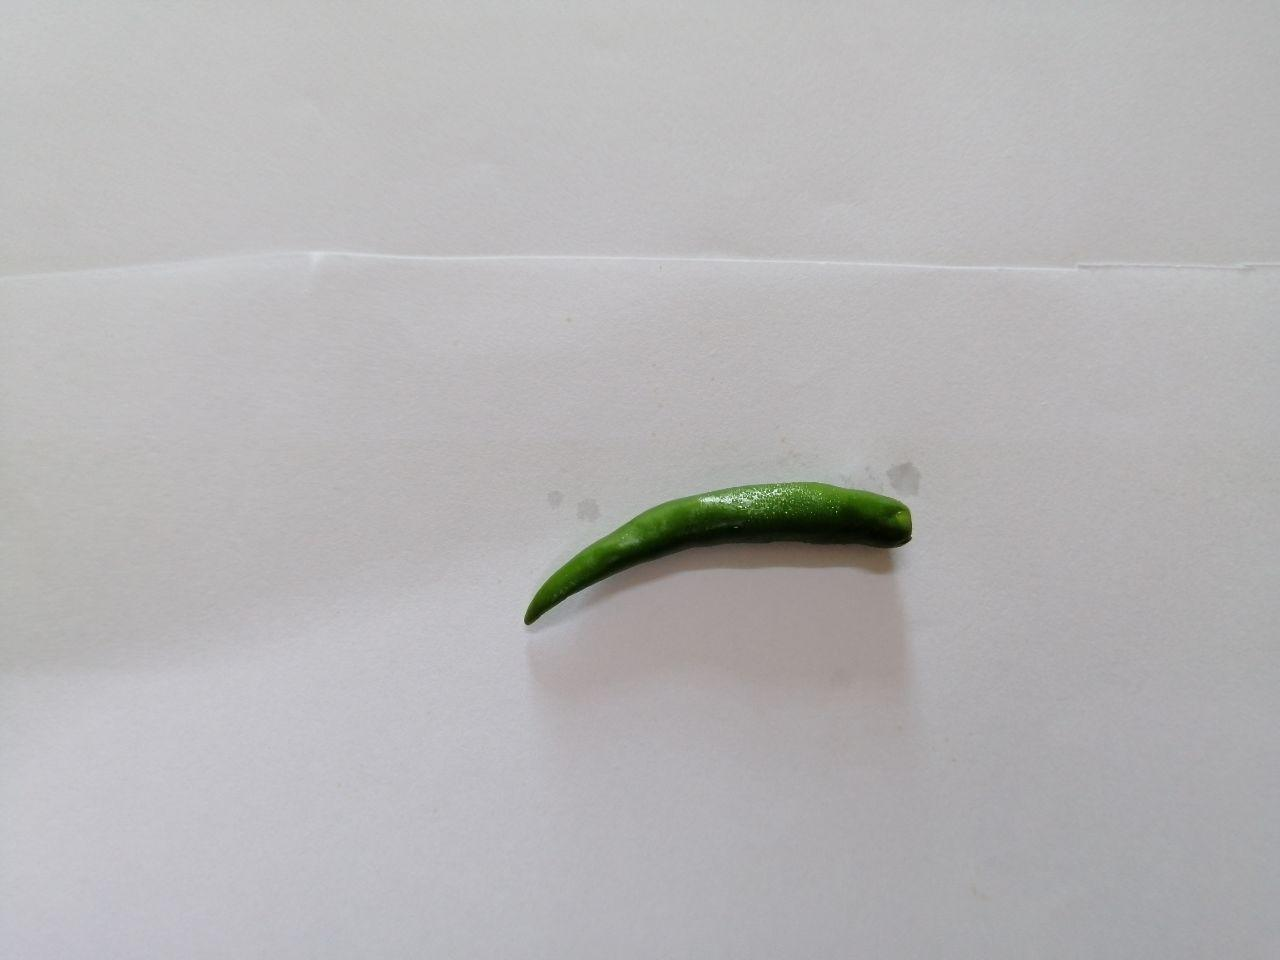lada hijau: (487, 440, 968, 642)
